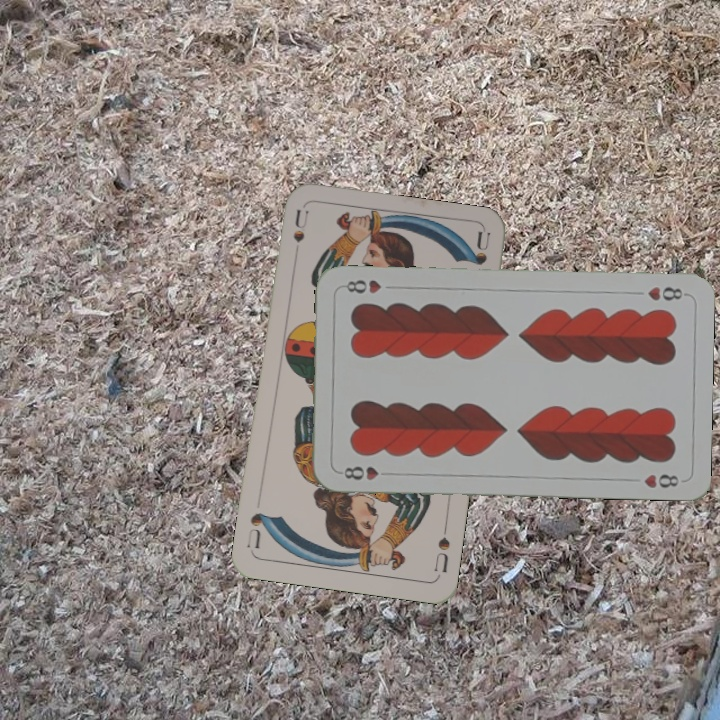H8: (643, 283, 689, 304), (340, 462, 382, 482)
SU: (430, 519, 453, 578), (289, 206, 312, 245)
